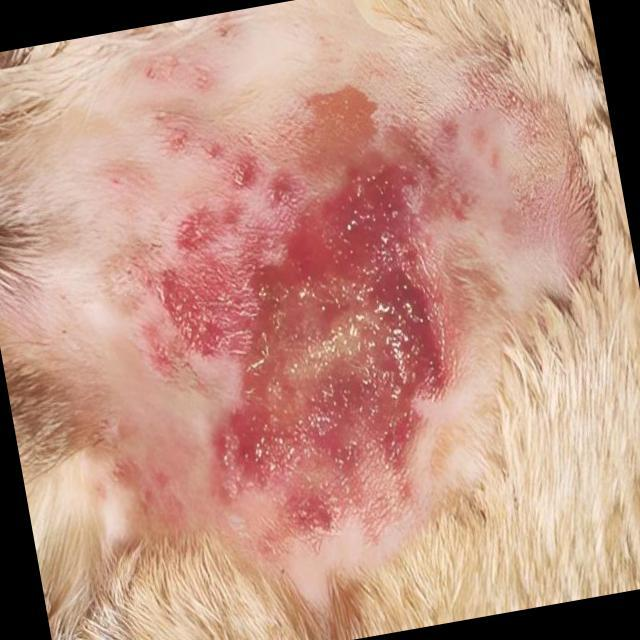allergic dermatitis: (118, 91, 476, 548)
